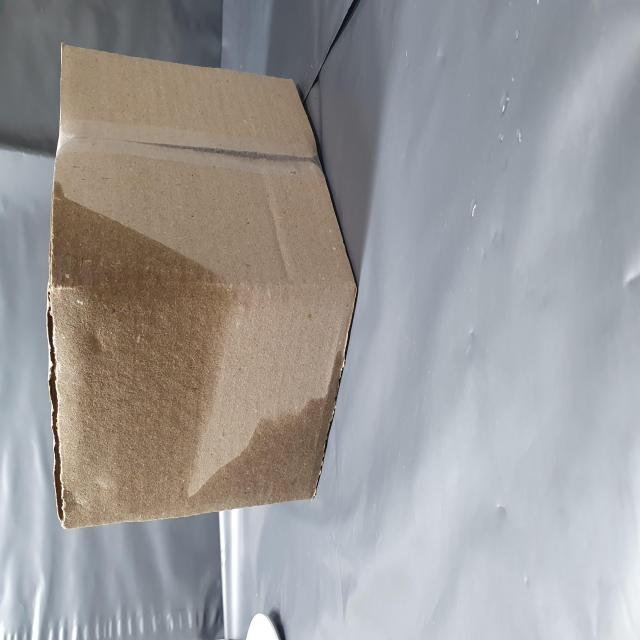wet: (69, 72, 249, 614)
